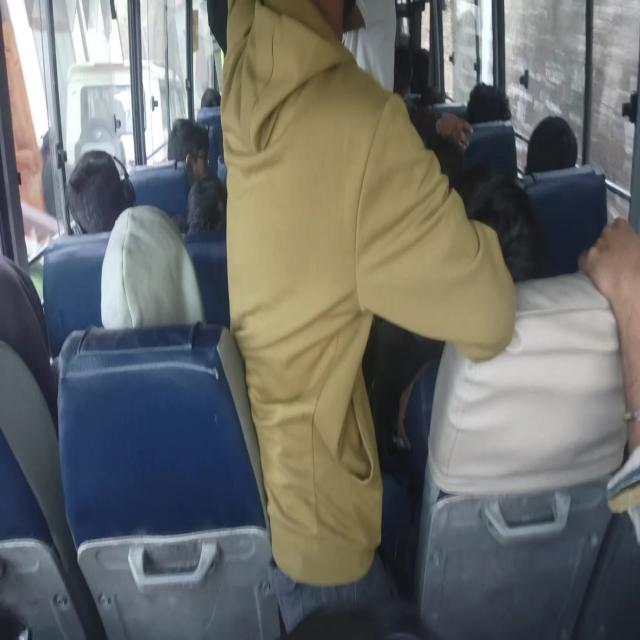person: (229, 0, 431, 549), (93, 208, 191, 349), (449, 176, 533, 299), (281, 575, 434, 640), (0, 255, 59, 382), (63, 144, 116, 222), (184, 170, 237, 246), (160, 108, 210, 176), (532, 118, 580, 177), (394, 33, 428, 94), (472, 86, 508, 128), (194, 80, 226, 118)
